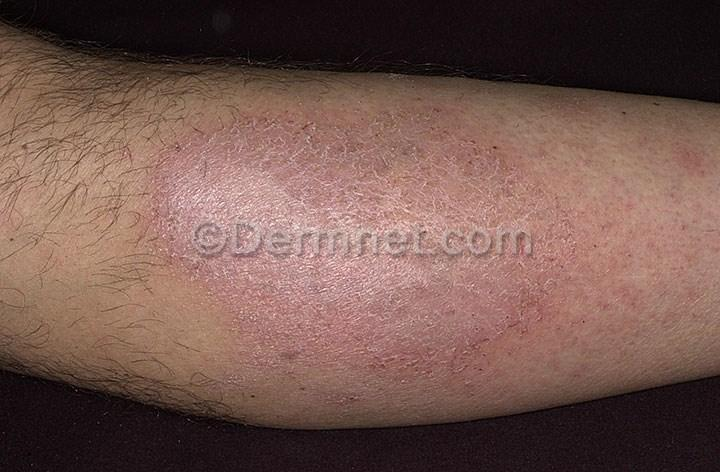Eczema: (255, 275, 512, 378), (201, 132, 437, 213), (488, 160, 582, 218), (539, 270, 617, 339)
